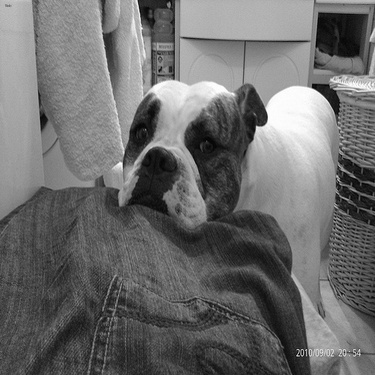dog: (113, 71, 347, 324), (306, 6, 361, 65)
